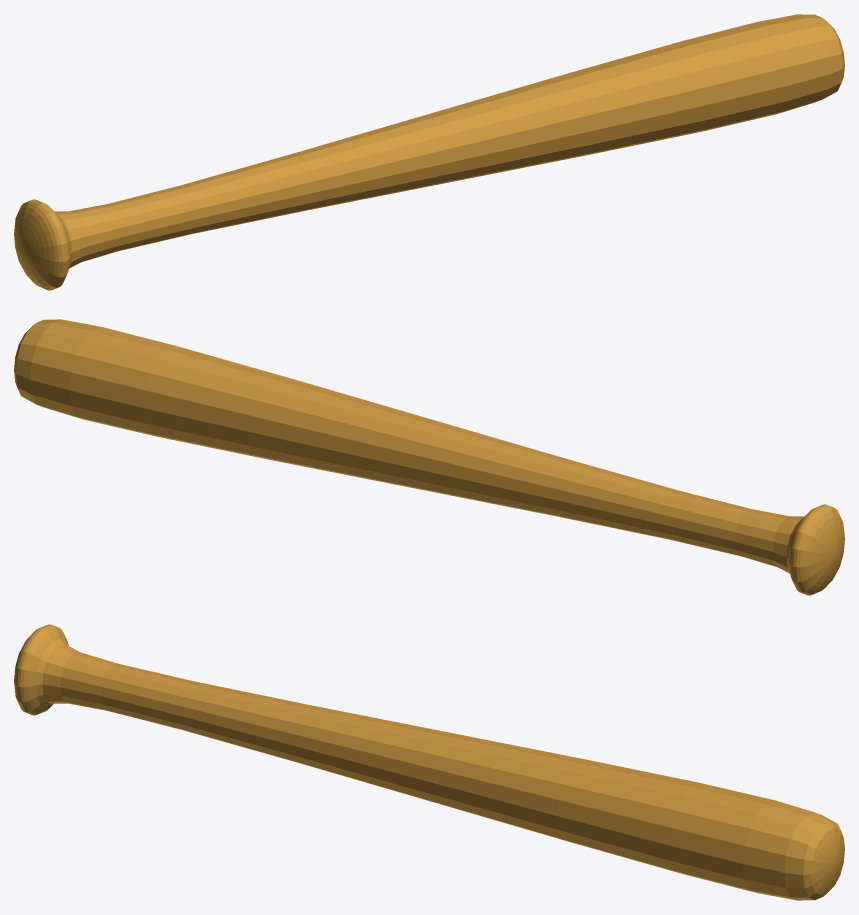
File: baseball-bat.glb
3 renders of one model, top to bottom at view 1: azimuth 30°, elevation 25°; view 2: azimuth 150°, elevation 25°; view 3: azimuth 330°, elevation 25°, orthographic.
Parts seen in each view (by area): view 1: Bat; view 2: Bat; view 3: Bat.
Part boxes in pixels (bbox=[...]): Bat: bbox=[14, 14, 844, 290]; Bat: bbox=[14, 319, 844, 595]; Bat: bbox=[14, 624, 844, 900].
Bounding box in the file's own units: 2 × 0.2 × 0.2.
